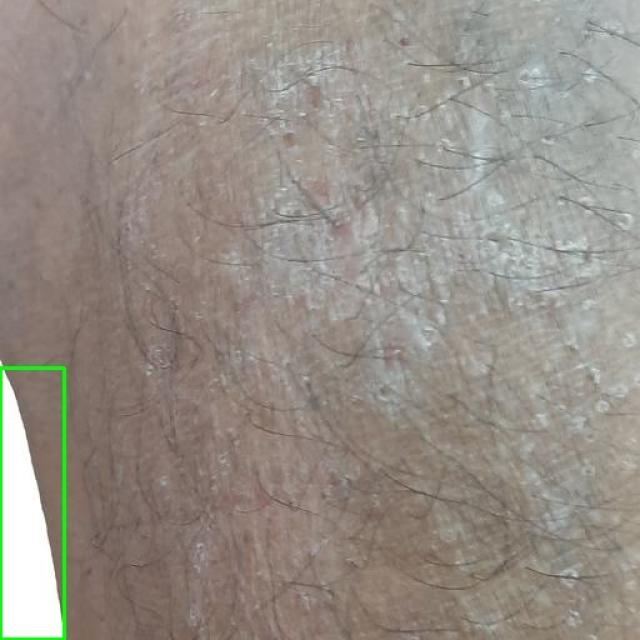Contact Dermatitis: (0, 368, 64, 639)
